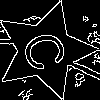C: (20, 25, 78, 74)
